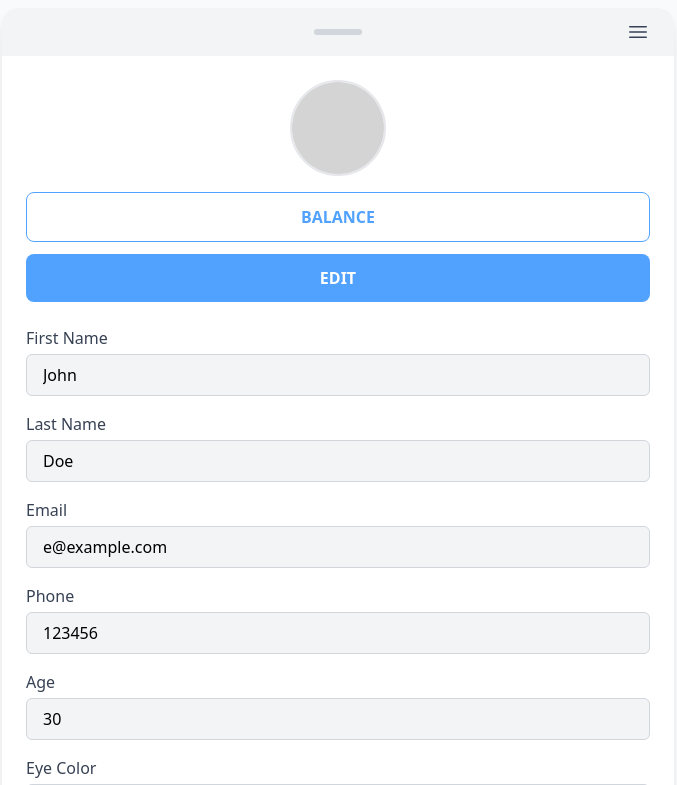
Test case: <Profile /> › opens and closes balance modal
This screenshot has width=677, height=785.
Click the button with test id "balance-button" at (338, 217), box [26,192,650,242]
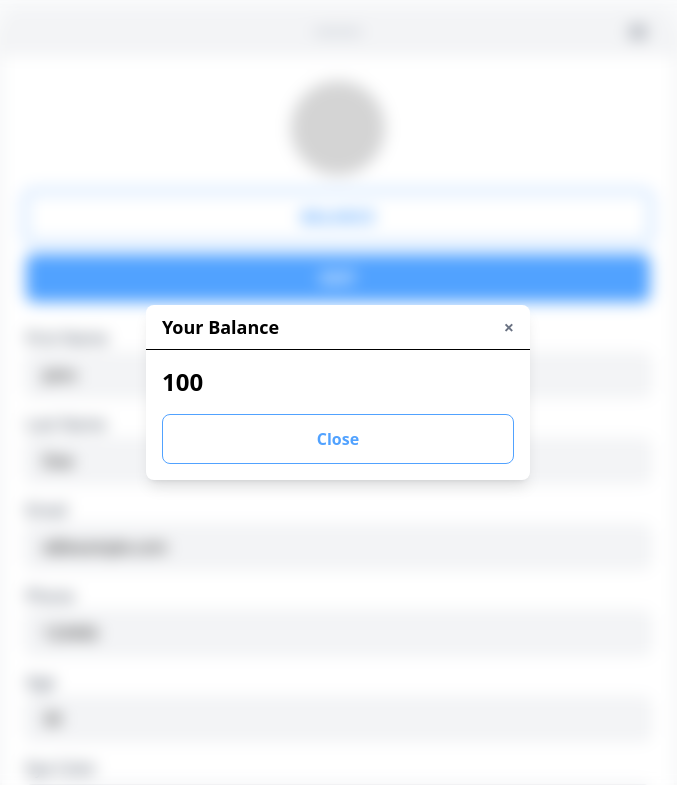
Now the text with test id "balance-value" reads "100", box [162,364,203,398]
Click the button with test id "close-balance" at (338, 438), box [162,414,514,464]
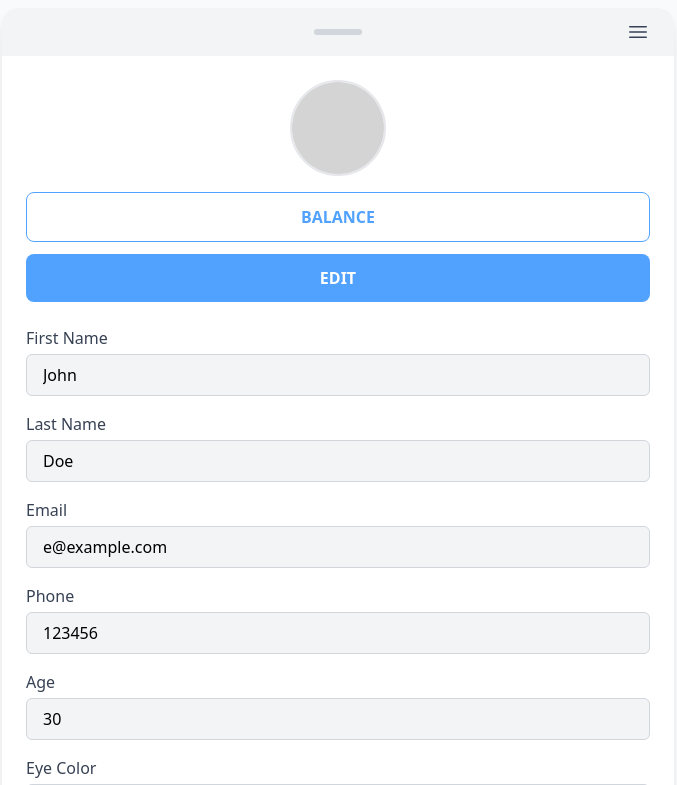
Now the text with test id "balance-value" is gone
